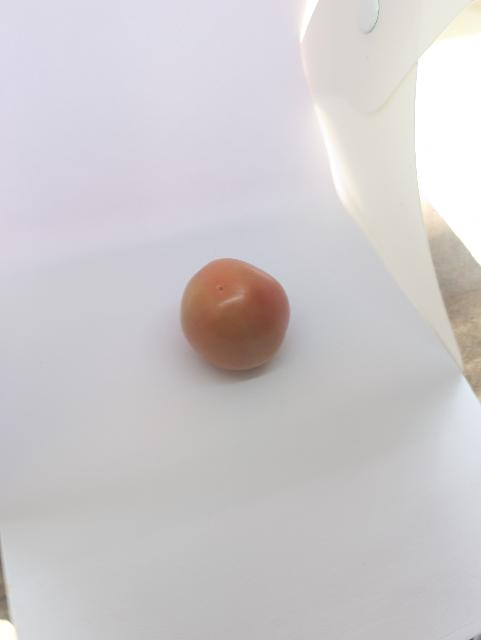turning: (178, 254, 296, 381)
